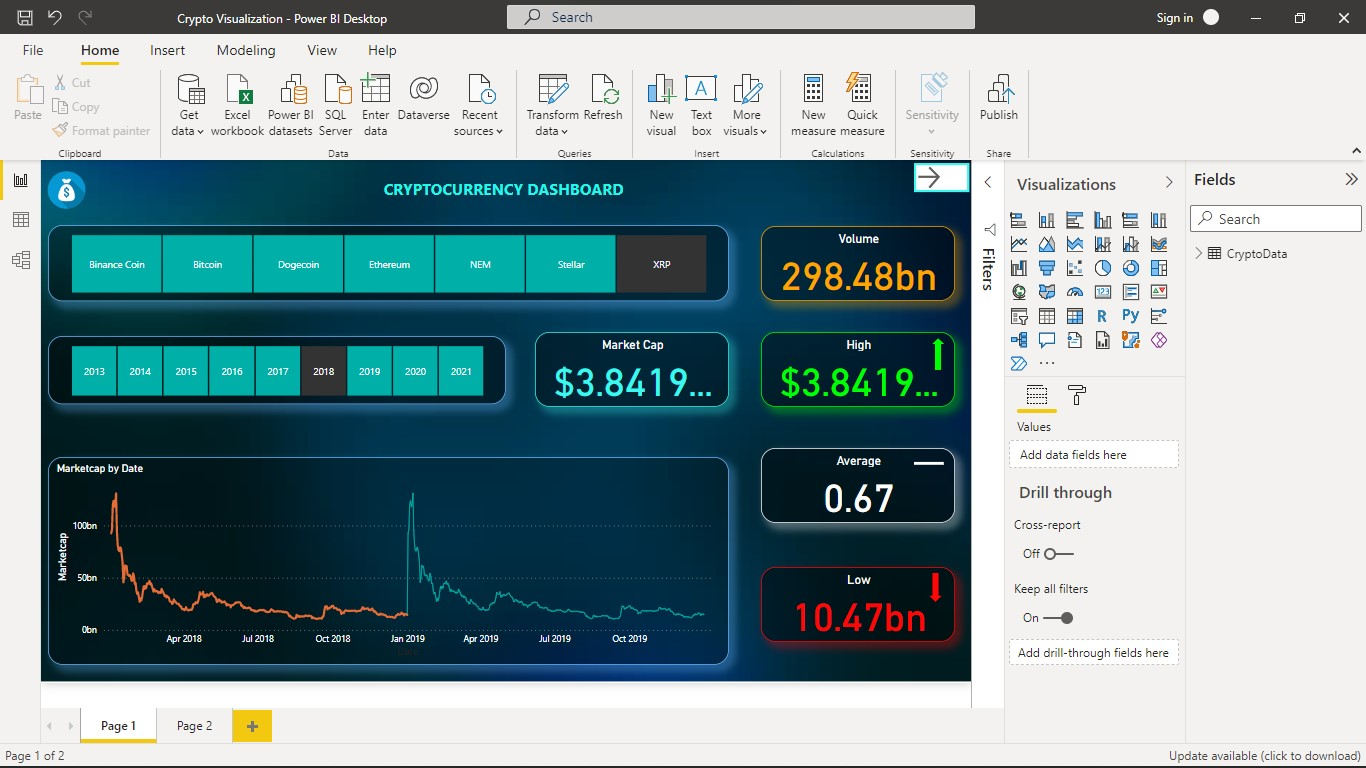

The page's visual inventory and layout, read from the dashboard file:
{"tool":"powerbi","page":{"name":"Page 1","canvas":[1280,720],"ordinal":0},"visuals":[{"type":"slicer","fields":{"Values":["CryptoData.Name"]},"box":[9.6,89.5,937.3,104.6],"z":0},{"type":"slicer","fields":{"Values":["CryptoData.Year"]},"box":[9.6,242.2,630.4,93.6],"z":1000},{"type":"lineChart","fields":{"Y":["Sum(CryptoData.Marketcap)"],"Category":["CryptoData.Date"]},"box":[9.6,408.8,937.3,286.3],"z":2000},{"type":"actionButton","box":[1201.5,4.1,75.7,39.9],"z":3000},{"type":"image","box":[4.1,1.4,61.9,79.8],"z":4000},{"type":"textbox","box":[466.6,20.6,357.8,41.3],"z":5000},{"type":"card","title":"High","fields":{"Values":["Max(CryptoData.High)"]},"box":[991,236.7,267,103.2],"z":6000},{"type":"card","title":"Volume","fields":{"Values":["Sum(CryptoData.Volume)"]},"box":[991,90.8,267,103.2],"z":7000},{"type":"card","title":"Average","fields":{"Values":["Avg(CryptoData.Average)"]},"box":[991,396.4,267,103.2],"z":8000},{"type":"card","title":"Low","fields":{"Values":["Min(CryptoData.Marketcap)"]},"box":[991,560.2,267,103.2],"z":9000},{"type":"shape","box":[1226.3,245,16.5,44],"z":10000},{"type":"shape","box":[1222.2,568.4,17.9,39.9],"z":11000},{"type":"card","title":"Market Cap","fields":{"Values":["Max(CryptoData.High)"]},"box":[679.9,236.7,267,103.2],"z":12000},{"type":"shape","box":[1201.5,400.5,41.3,34.4],"z":14000}]}

Visuals, with their boxes on the page's 1280x720 design canvas (x1, y1, x2, y2). These are canvas units, not pixel positions in the 1366x768 screenshot, which may show the page scaled, cropped or inside an application window:
slicer - CryptoData.Name: x1=10, y1=90, x2=947, y2=194
slicer - CryptoData.Year: x1=10, y1=242, x2=640, y2=336
lineChart - Sum(CryptoData.Marketcap) x CryptoData.Date: x1=10, y1=409, x2=947, y2=695
actionButton: x1=1202, y1=4, x2=1277, y2=44
image: x1=4, y1=1, x2=66, y2=81
textbox: x1=467, y1=21, x2=824, y2=62
"High" card: x1=991, y1=237, x2=1258, y2=340
"Volume" card: x1=991, y1=91, x2=1258, y2=194
"Average" card: x1=991, y1=396, x2=1258, y2=500
"Low" card: x1=991, y1=560, x2=1258, y2=663
shape: x1=1226, y1=245, x2=1243, y2=289
shape: x1=1222, y1=568, x2=1240, y2=608
"Market Cap" card: x1=680, y1=237, x2=947, y2=340
shape: x1=1202, y1=400, x2=1243, y2=435
